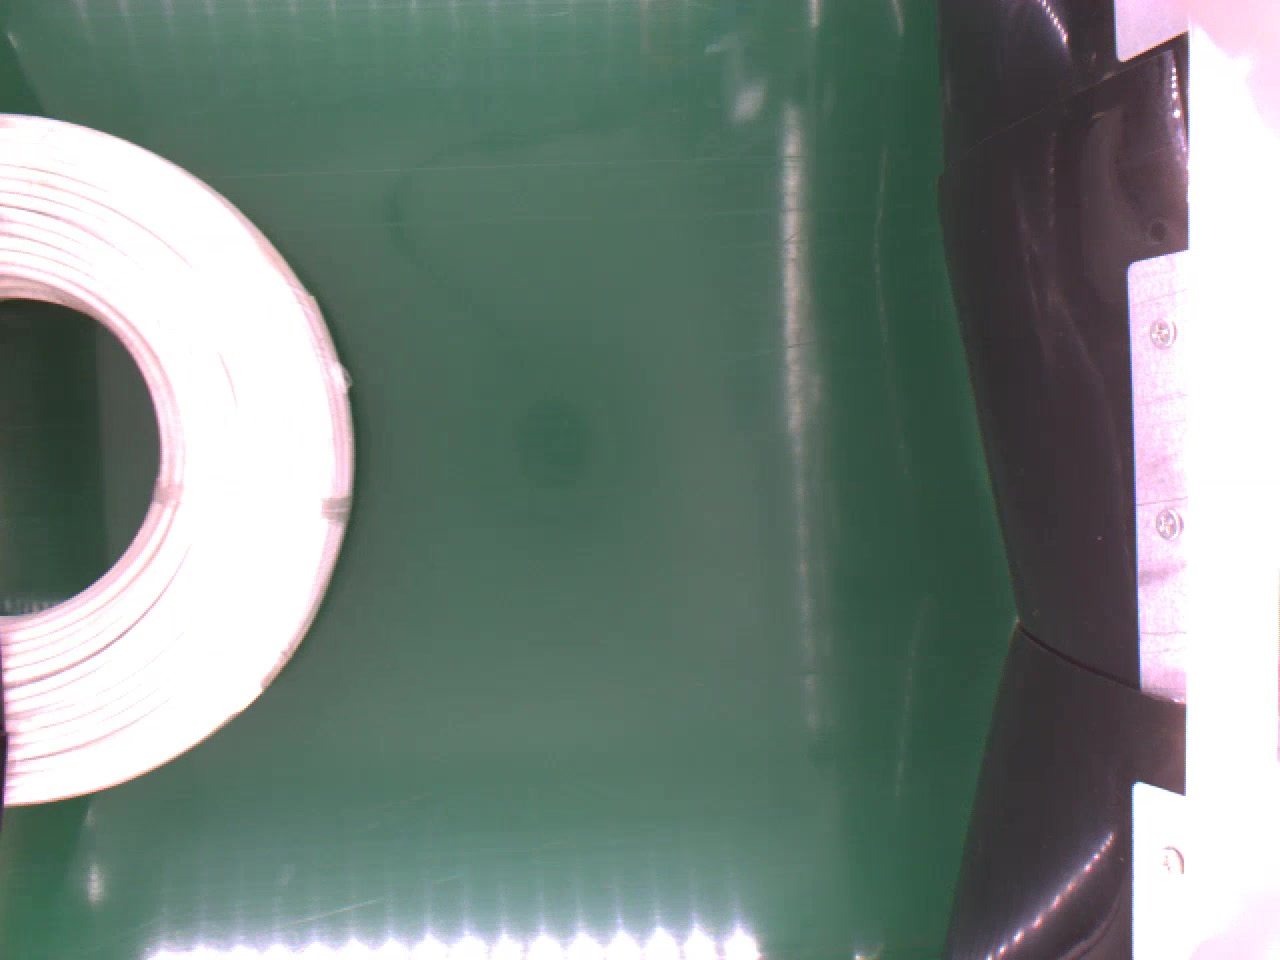white: (0, 110, 359, 808)
